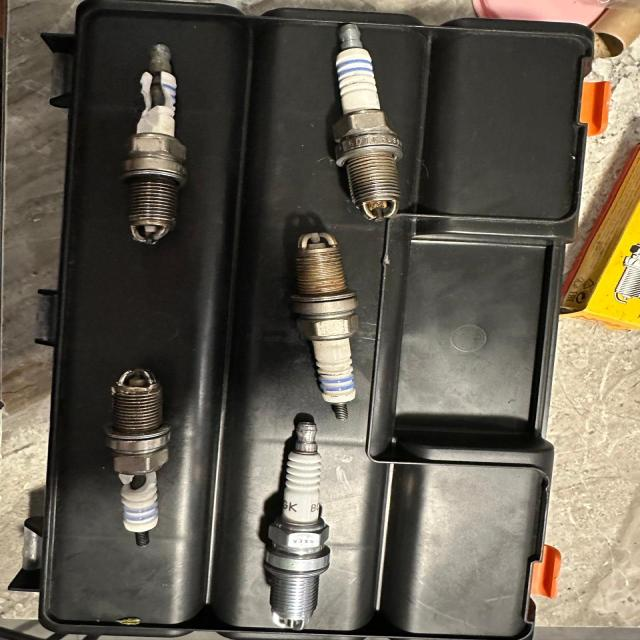damaged_spark-plug: (130, 40, 190, 247), (108, 364, 167, 546)
spark-plug: (322, 19, 406, 220), (262, 417, 330, 633), (293, 231, 364, 420)
